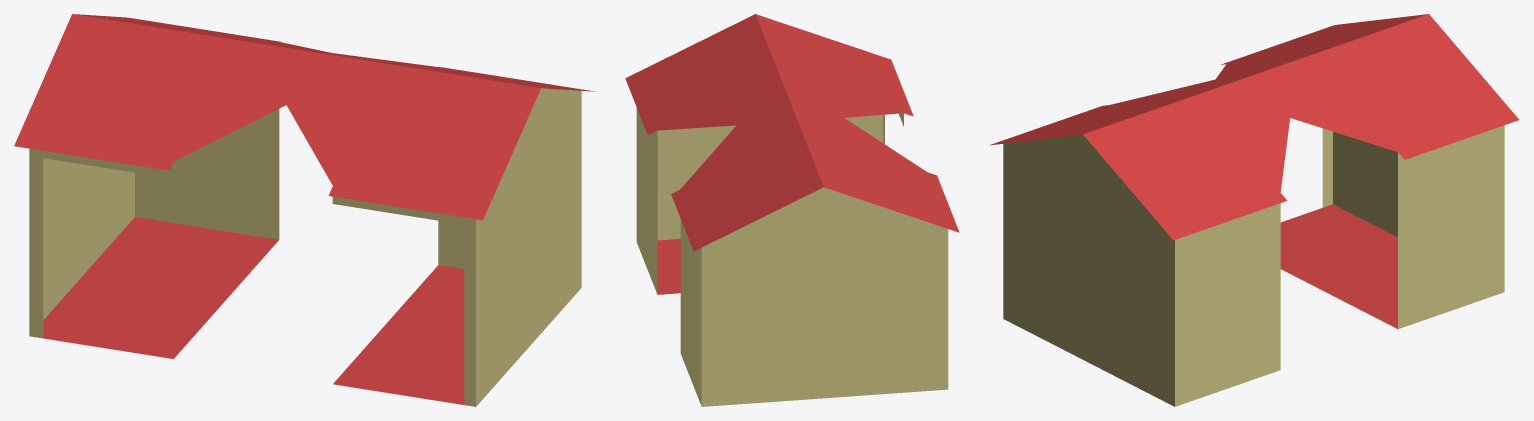
The picture shows the model from 3 angles, left to right: view 1: azimuth 30°, elevation 25°; view 2: azimuth 150°, elevation 25°; view 3: azimuth 270°, elevation 25°; orthographic projection. The views are drawn at different scales.
Size of the model in its own units: 24.02 by 25.04 by 12.08.
